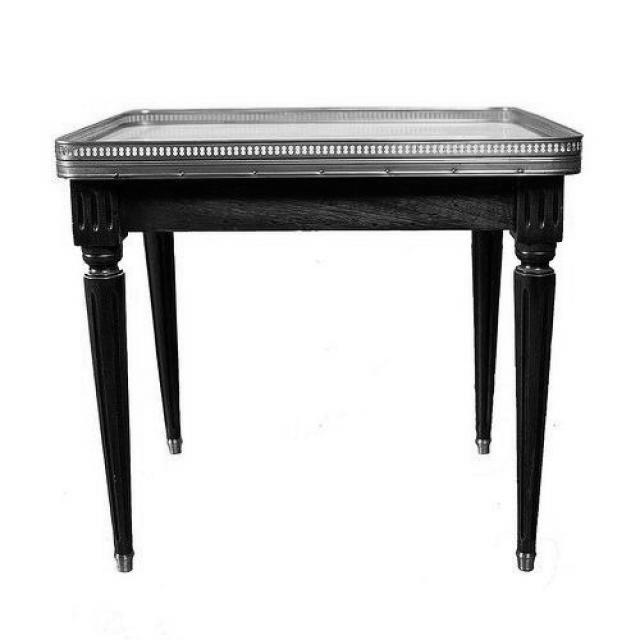table: (55, 106, 582, 572)
